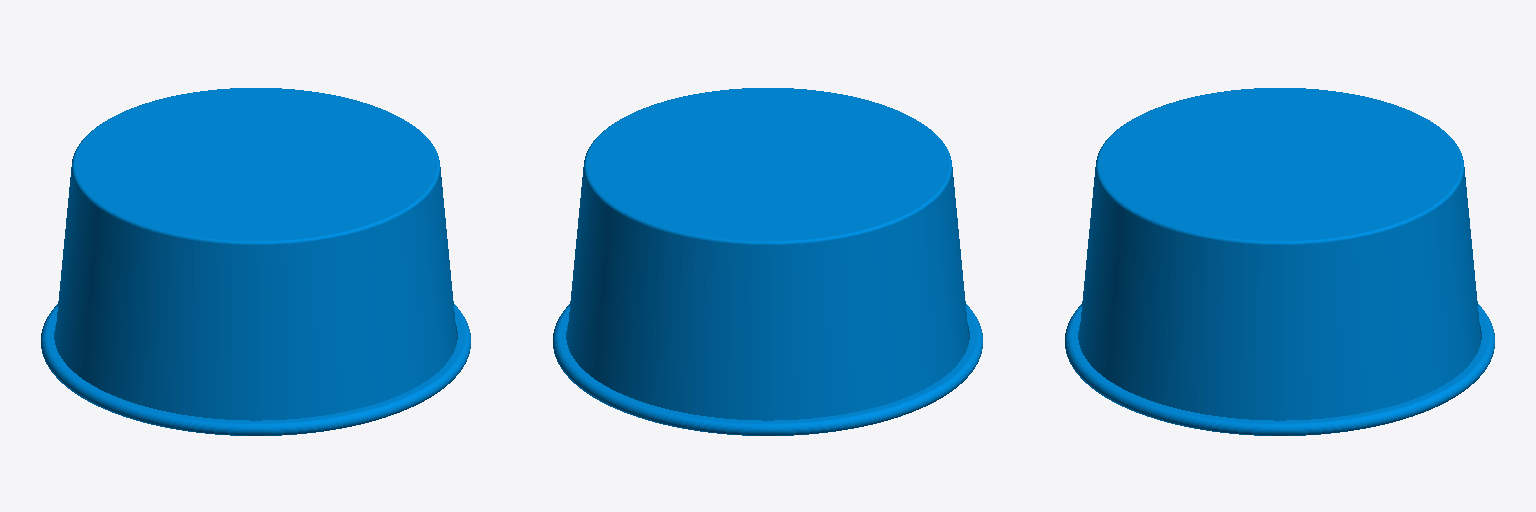
File: blue_drum.obj
The picture shows the model from 3 angles: view 1: azimuth 30°, elevation 25°; view 2: azimuth 150°, elevation 25°; view 3: azimuth 270°, elevation 25°; orthographic projection.
Parts seen in each view (by area): view 1: Solid1; view 2: Solid1; view 3: Solid1.
Part boxes in pixels (bbox=[...]): Solid1: bbox=[41, 88, 470, 435]; Solid1: bbox=[553, 88, 982, 435]; Solid1: bbox=[1065, 88, 1494, 435].
Size of the model in its own units: 640 by 300 by 640.